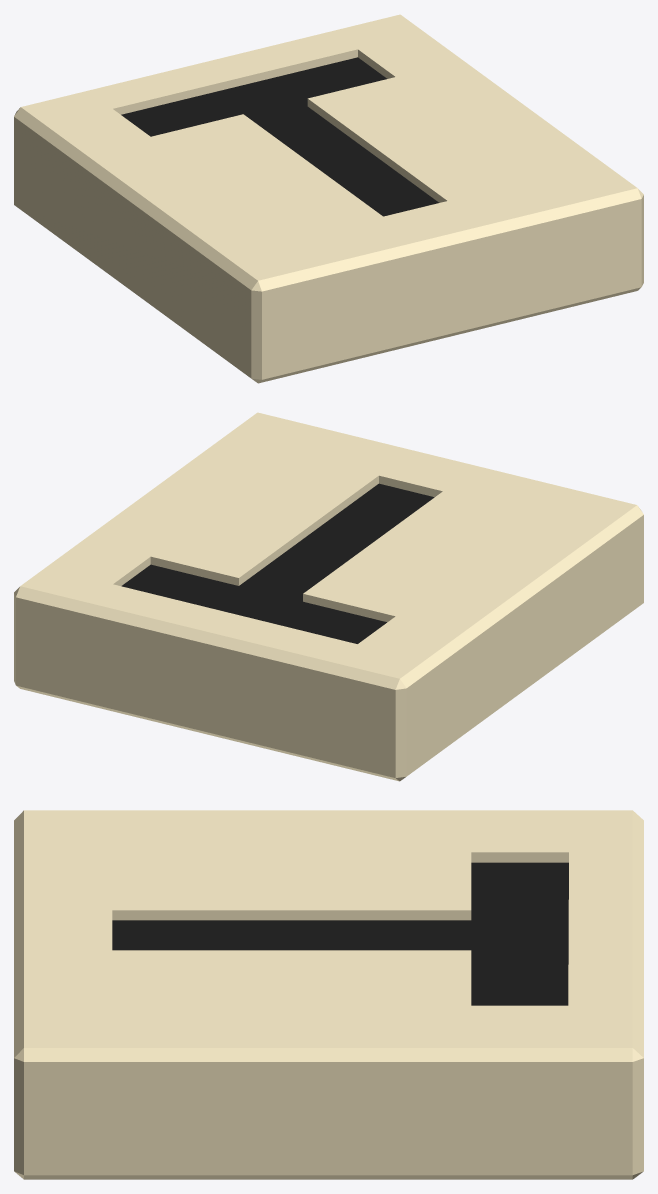
The model's file is Boardgame_Piece_Anagram_Letter_T_01.fbx.
3 views of the same model, one above another, from view 1: azimuth 30°, elevation 25°; view 2: azimuth 150°, elevation 25°; view 3: azimuth 270°, elevation 25° (orthographic). The views are drawn at different scales.
Parts seen in each view (by area): view 1: Boardgame_Piece_Anagram_Letter_T_01; view 2: Boardgame_Piece_Anagram_Letter_T_01; view 3: Boardgame_Piece_Anagram_Letter_T_01.
Part boxes in pixels (<box>): Boardgame_Piece_Anagram_Letter_T_01: <box>14,14,643,383</box>; Boardgame_Piece_Anagram_Letter_T_01: <box>14,412,643,781</box>; Boardgame_Piece_Anagram_Letter_T_01: <box>14,810,643,1179</box>.
Size of the model in its own units: 39.37 by 9.84 by 42.65.
